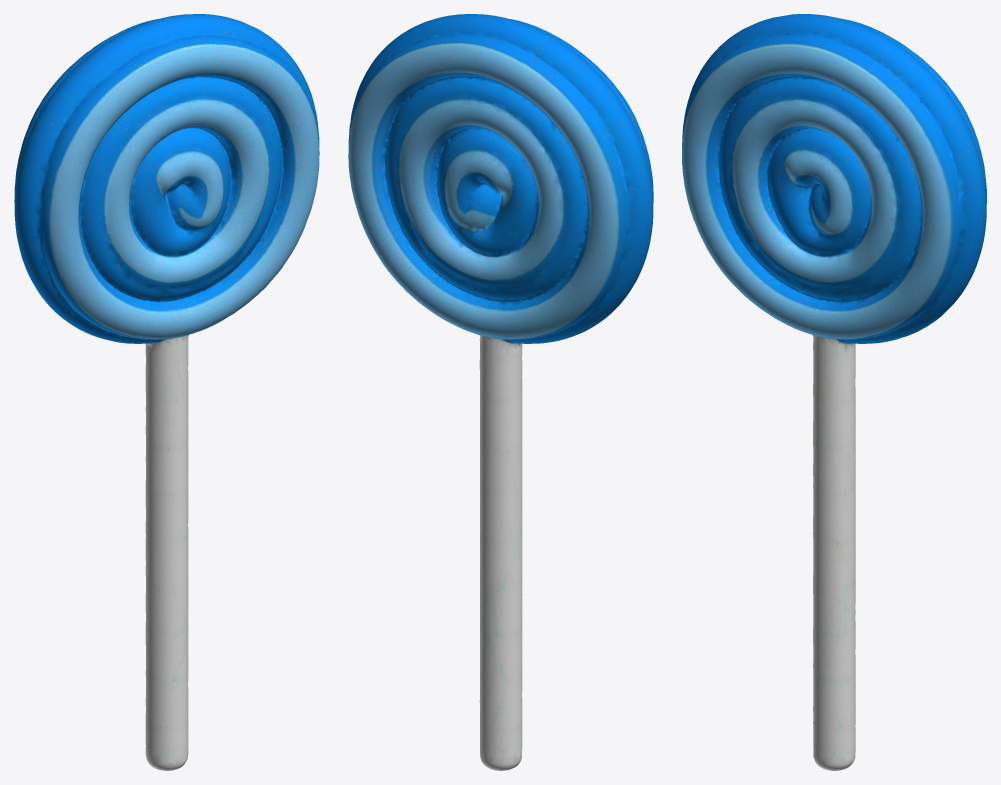
3 renders of one model, left to right at view 1: azimuth 30°, elevation 25°; view 2: azimuth 150°, elevation 25°; view 3: azimuth 330°, elevation 25°, orthographic.
Size of the model in its own units: 0.7958 by 1.9 by 0.206.
Materials: 1 (1 with a texture image).
